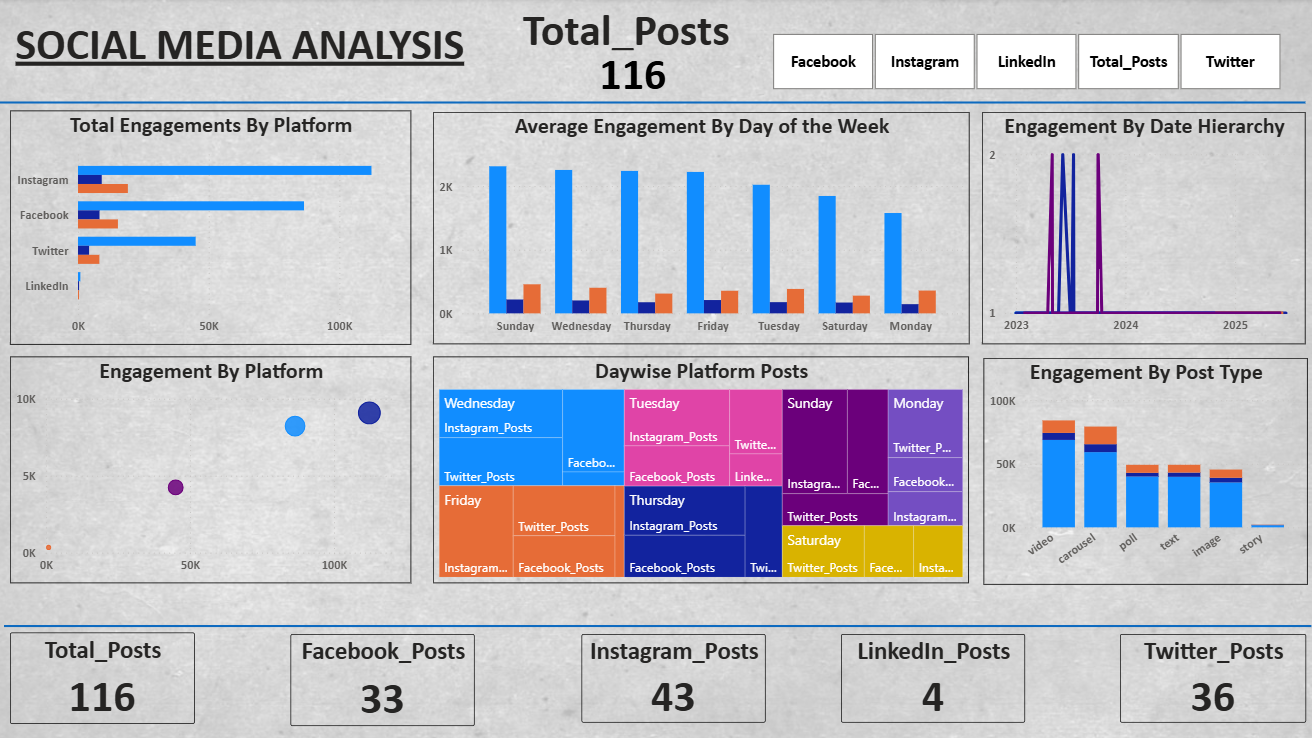

The page's visual inventory and layout, read from the dashboard file:
{"tool":"powerbi","page":{"name":"Engagement_Analysis","canvas":[1280,720],"ordinal":0},"visuals":[{"type":"card","title":"Facebook_Posts","fields":{"Values":["All_Measures.Facebook_Posts"]},"box":[283.3,617.9,178.9,89.4],"z":0},{"type":"card","title":"Total_Posts","fields":{"Values":["All_Measures.Total_Posts"]},"box":[12,616.4,179.3,88.8],"z":1000},{"type":"card","title":"Instagram_Posts","fields":{"Values":["All_Measures.Instagram_Posts"]},"box":[566.5,617.9,178.9,86.1],"z":2000},{"type":"card","title":"LinkedIn_Posts","fields":{"Values":["All_Measures.LinkedIn_Posts"]},"box":[818.3,617.9,178.9,86.1],"z":3000},{"type":"card","title":"Twitter_Posts","fields":{"Values":["All_Measures.Twitter_Posts"]},"box":[1088.3,617.9,180.6,86.1],"z":4000},{"type":"textbox","box":[11.9,13.6,450.1,67.9],"z":5000},{"type":"slicer","fields":{"Values":["Selection Table.Measure"]},"box":[726.9,27.2,541.8,67.9],"z":6000},{"type":"shape","box":[0,95.1,1268.7,13.6],"z":7000},{"type":"card","fields":{"Values":["All_Measures.Measure Logic"]},"box":[504.9,44.7,221.2,51.4],"z":8000},{"type":"card","fields":{"Values":["All_Measures.Measure Selected"]},"box":[491.4,0,234.6,55.8],"z":9000},{"type":"clusteredBarChart","title":"Total Engagements By Platform","fields":{"Category":["social_media_posts.Platform_Type"],"Y":["Sum(social_media_posts.Likes_Count)","Sum(social_media_posts.Comments_Count)","Sum(social_media_posts.Shares_Count)"]},"box":[12,109.3,389.3,227.1],"z":10000},{"type":"clusteredColumnChart","title":"Average Engagement By Day of the Week","fields":{"Category":["social_media_posts.Post_Day"],"Y":["Avg(social_media_posts.Likes_Count)","Avg(social_media_posts.Comments_Count)","Avg(social_media_posts.Shares_Count)"]},"box":[421.7,111,520.8,225.4],"z":11000},{"type":"columnChart","title":"Engagement By Post Type","fields":{"Category":["social_media_posts.Post_Type"],"Y":["Sum(social_media_posts.Likes_Count)","Sum(social_media_posts.Comments_Count)","Sum(social_media_posts.Shares_Count)"]},"box":[955.8,349.5,314.7,220.3],"z":12000},{"type":"scatterChart","title":"Engagement By Platform","fields":{"X":["Sum(social_media_posts.Likes_Count)"],"Y":["Sum(social_media_posts.Comments_Count)"],"Size":["Sum(social_media_posts.Shares_Count)"],"Series":["social_media_posts.Platform_Type"]},"box":[11.6,347.9,389.3,220.3],"z":13000},{"type":"shape","box":[5.1,602.7,1268.6,13.7],"z":14000},{"type":"lineChart","title":"Engagement By Date Hierarchy","fields":{"Category":["social_media_posts.Post_Time"],"Y":["All_Measures.Facebook_Posts","All_Measures.Instagram_Posts","All_Measures.LinkedIn_Posts","All_Measures.Twitter_Posts"]},"box":[955,111,314,225],"z":15000},{"type":"treemap","title":"Daywise Platform Posts","fields":{"Values":["All_Measures.Facebook_Posts","All_Measures.Instagram_Posts","All_Measures.LinkedIn_Posts","All_Measures.Twitter_Posts"],"Group":["social_media_posts.Post_Day"]},"box":[422.4,347.9,520.1,220.3],"z":16000}]}

Visuals, with their boxes in screenshot pixels (x1, y1, x2, y2), scaled from the page's 1280x720 canvas onto the 1312x738 screenshot:
"Facebook_Posts" card: x1=290 y1=633 x2=474 y2=725
"Total_Posts" card: x1=12 y1=632 x2=196 y2=723
"Instagram_Posts" card: x1=581 y1=633 x2=764 y2=722
"LinkedIn_Posts" card: x1=839 y1=633 x2=1022 y2=722
"Twitter_Posts" card: x1=1116 y1=633 x2=1301 y2=722
textbox: x1=12 y1=14 x2=474 y2=84
slicer - Selection Table.Measure: x1=745 y1=28 x2=1300 y2=97
shape: x1=0 y1=97 x2=1300 y2=111
card - All_Measures.Measure Logic: x1=518 y1=46 x2=744 y2=99
card - All_Measures.Measure Selected: x1=504 y1=0 x2=744 y2=57
"Total Engagements By Platform" clusteredBarChart: x1=12 y1=112 x2=411 y2=345
"Average Engagement By Day of the Week" clusteredColumnChart: x1=432 y1=114 x2=966 y2=345
"Engagement By Post Type" columnChart: x1=980 y1=358 x2=1302 y2=584
"Engagement By Platform" scatterChart: x1=12 y1=357 x2=411 y2=582
shape: x1=5 y1=618 x2=1306 y2=632
"Engagement By Date Hierarchy" lineChart: x1=979 y1=114 x2=1301 y2=344
"Daywise Platform Posts" treemap: x1=433 y1=357 x2=966 y2=582
